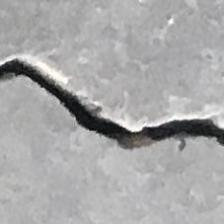Crack: (0, 50, 224, 173)
